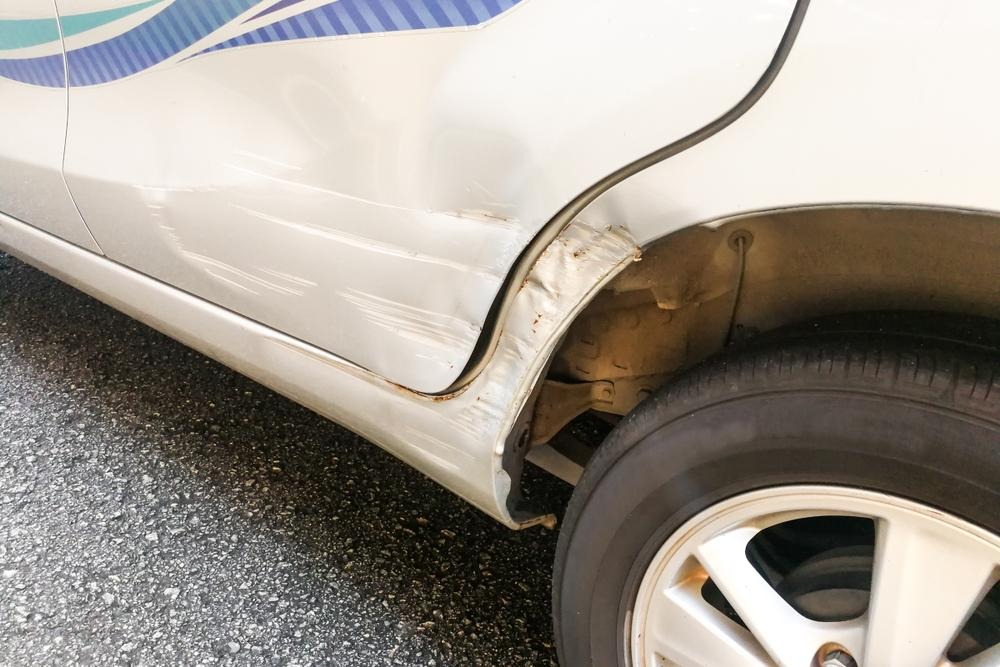dent: (143, 50, 552, 356), (446, 196, 637, 441)
